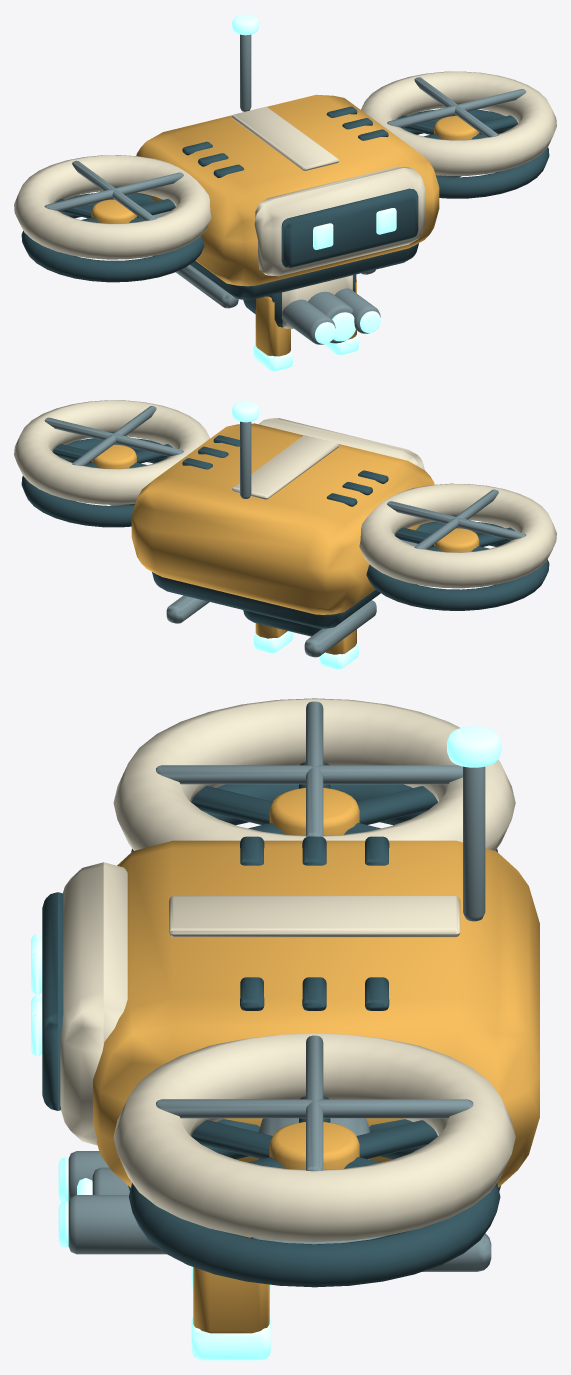
File: helper-drone.glb
The picture shows the model from 3 angles, top to bottom: view 1: azimuth 30°, elevation 25°; view 2: azimuth 150°, elevation 25°; view 3: azimuth 270°, elevation 25°; orthographic projection. The views are drawn at different scales.
Visible parts, largest first — view 1: Shell_Drone_Ivory, Shell_Drone_Amber, Shell_Drone_Navy, Shell_Drone_Steel, Tool_Guard_Drone_Steel, Tool_Collector_Drone_Amber, Shell_Drone_Status, Tool_Repair_Drone_Ivory, Tool_Collector_Drone_Status, Rotor hub, Rotor hub.001, Tool_Guard_Drone_Status (+3 smaller); view 2: Shell_Drone_Amber, Shell_Drone_Ivory, Shell_Drone_Navy, Shell_Drone_Steel, Tool_Collector_Drone_Status, Rotor hub, Rotor hub.001, Tool_Guard_Drone_Navy, Tool_Collector_Drone_Amber, Shell_Drone_Status, Blade.003, Blade (+2 smaller); view 3: Shell_Drone_Ivory, Shell_Drone_Amber, Shell_Drone_Navy, Shell_Drone_Steel, Tool_Guard_Drone_Steel, Tool_Collector_Drone_Amber, Shell_Drone_Status, Rotor hub, Rotor hub.001, Tool_Collector_Drone_Status, Blade.002, Blade.005 (+4 smaller).
Part boxes in pixels (x1,y1,x2,y2): Shell_Drone_Ivory: [14, 71, 556, 276]; Shell_Drone_Amber: [135, 94, 439, 286]; Shell_Drone_Navy: [21, 106, 549, 300]; Shell_Drone_Steel: [44, 34, 526, 308]; Tool_Guard_Drone_Steel: [282, 288, 380, 344]; Tool_Collector_Drone_Amber: [255, 279, 356, 356]; Shell_Drone_Status: [232, 14, 396, 249]; Tool_Repair_Drone_Ivory: [282, 275, 352, 328]; Tool_Collector_Drone_Status: [253, 335, 358, 371]; Rotor hub: [91, 199, 136, 223]; Rotor hub.001: [434, 116, 479, 140]; Tool_Guard_Drone_Status: [315, 311, 380, 343]; Shell_Drone_Amber: [131, 423, 435, 614]; Shell_Drone_Ivory: [14, 400, 556, 588]; Shell_Drone_Navy: [21, 435, 549, 628]; Shell_Drone_Steel: [44, 406, 526, 657]; Tool_Collector_Drone_Status: [253, 631, 358, 669]; Rotor hub: [434, 528, 479, 552]; Rotor hub.001: [91, 444, 136, 468]; Tool_Guard_Drone_Navy: [243, 610, 321, 636]; Tool_Collector_Drone_Amber: [255, 623, 356, 654]; Shell_Drone_Status: [232, 401, 258, 422]; Blade.003: [53, 444, 147, 468]; Blade: [395, 527, 489, 551]; Shell_Drone_Ivory: [60, 698, 515, 1241]; Shell_Drone_Amber: [93, 840, 539, 1187]; Shell_Drone_Navy: [42, 784, 500, 1287]; Shell_Drone_Steel: [156, 701, 491, 1271]; Tool_Guard_Drone_Steel: [68, 1151, 166, 1254]; Tool_Collector_Drone_Amber: [193, 1236, 269, 1333]; Shell_Drone_Status: [31, 726, 501, 1056]; Rotor hub: [269, 787, 359, 835]; Rotor hub.001: [269, 1122, 359, 1169]; Tool_Collector_Drone_Status: [191, 1266, 271, 1360]; Blade.002: [248, 786, 437, 834]; Blade.005: [248, 1120, 437, 1168].
Bounding box in the file's own units: 1.72 × 0.9325 × 0.734.
